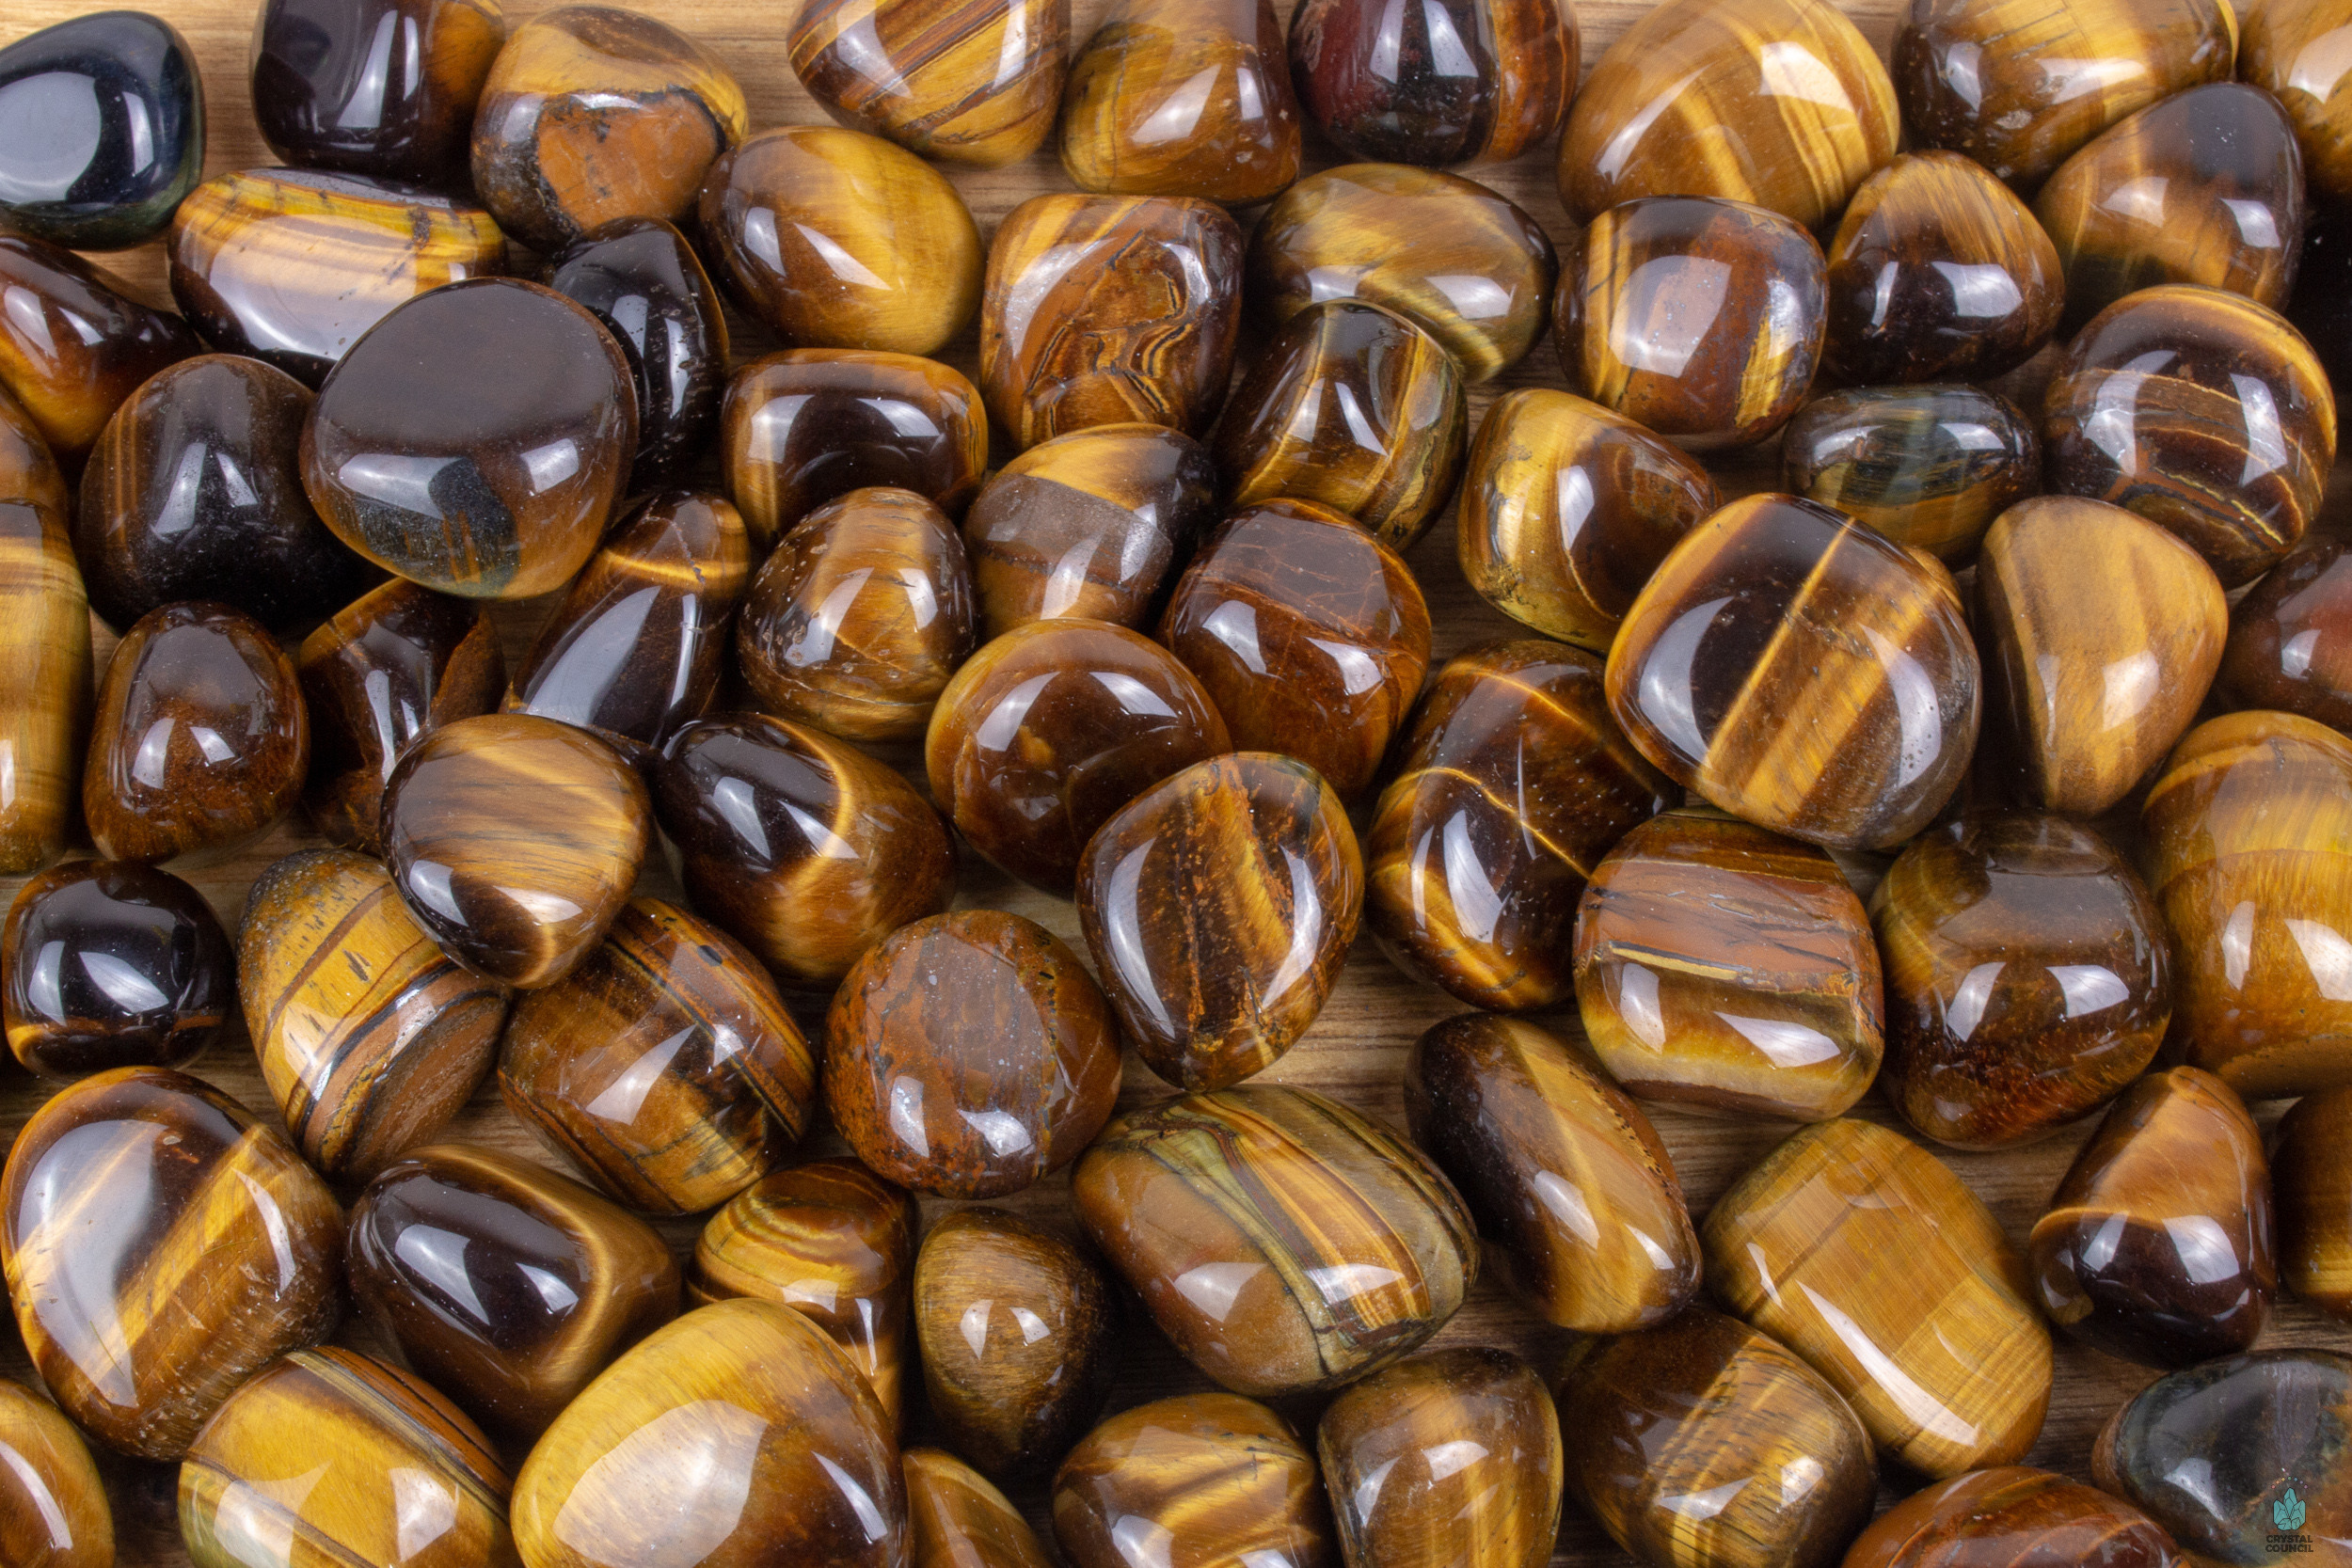Tigers_Eye: (7, 35, 2352, 1556)
